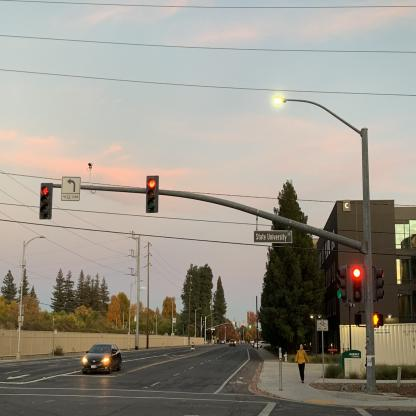left-red: (39, 183, 53, 219)
red: (350, 264, 364, 303), (146, 176, 159, 213)
